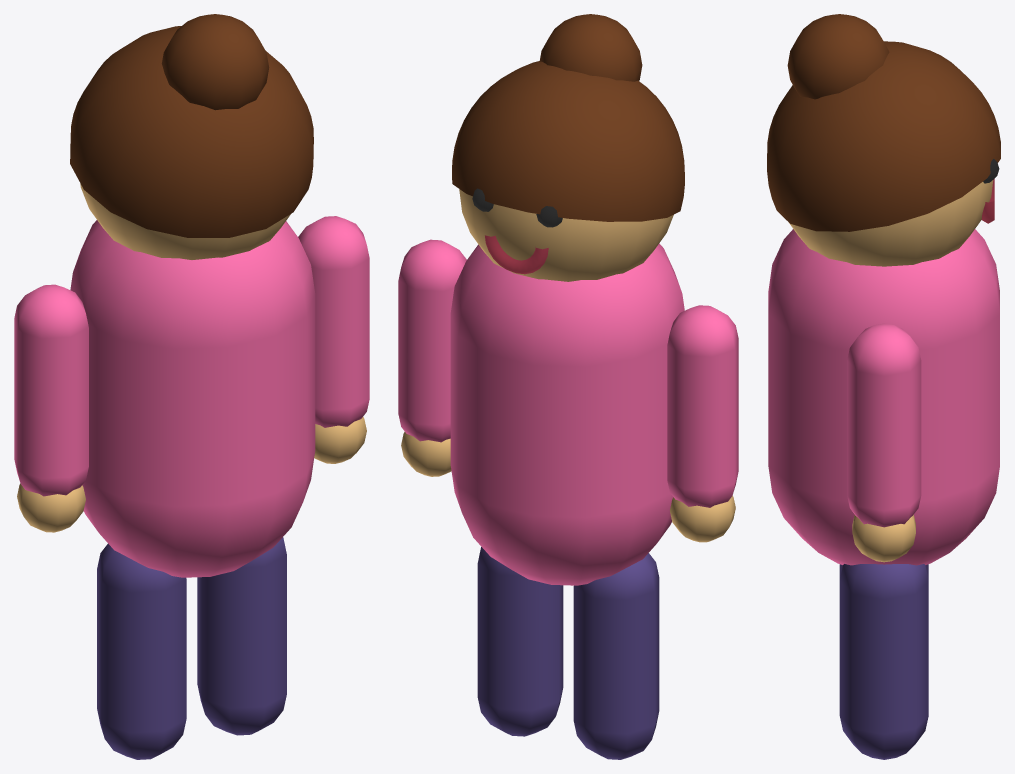
The model's file is hair-bun.glb.
3 renders of one model, left to right at view 1: azimuth 30°, elevation 25°; view 2: azimuth 150°, elevation 25°; view 3: azimuth 270°, elevation 25°, orthographic. The views are drawn at different scales.
Parts seen in each view (by area): view 1: torso, head, armL, legL, legR, armR; view 2: torso, head, armL, legL, legR, armR; view 3: torso, head, legR, armR.
Part boxes in pixels (x1,y1,x2,y2): torso: (70,220,315,577); head: (70,14,313,259); armL: (14,284,88,532); legL: (97,543,186,759); legR: (197,537,286,735); armR: (298,216,369,463); torso: (450,243,684,585); head: (452,14,684,281); armL: (667,305,738,542); legL: (573,553,659,759); legR: (477,547,563,736); armR: (398,239,466,476); torso: (768,229,999,565); head: (767,14,1000,266); legR: (839,564,928,759); armR: (847,323,921,562).
Bounding box in the file's own units: 1.04 × 2.12 × 0.6291.
